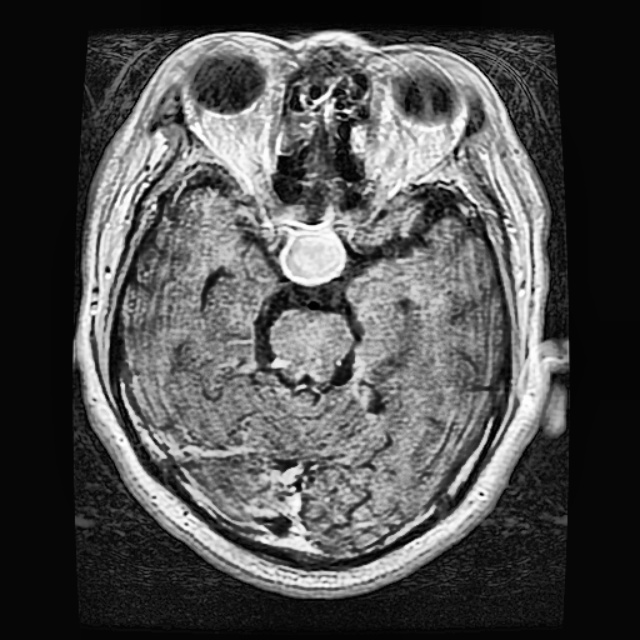Pituitary: (280, 230, 347, 282)
